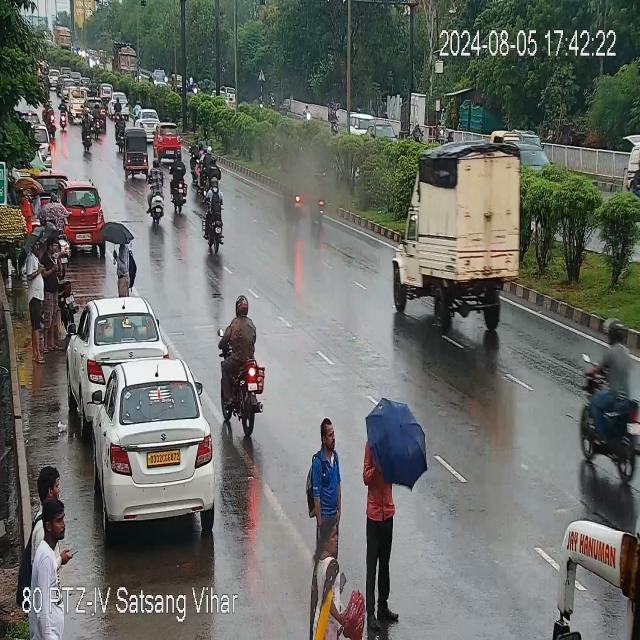2-wheelers: (575, 316, 640, 474), (214, 295, 260, 436), (48, 79, 90, 129), (190, 137, 224, 192), (202, 187, 229, 256), (81, 99, 117, 146), (308, 156, 329, 234), (281, 154, 303, 222), (170, 155, 192, 218), (145, 164, 165, 226), (111, 99, 131, 149), (110, 90, 132, 128), (190, 136, 217, 164), (80, 113, 99, 151), (111, 96, 125, 121)
auto: (125, 127, 154, 177)
bus: (547, 461, 639, 638)
car: (94, 361, 218, 526), (70, 294, 160, 404), (49, 172, 105, 241), (491, 131, 549, 159), (624, 126, 640, 206), (156, 124, 184, 156), (132, 105, 162, 126)
pedestrian: (359, 459, 405, 635), (20, 469, 57, 599), (312, 522, 348, 639), (96, 218, 142, 302), (312, 422, 338, 563), (30, 500, 67, 578), (27, 228, 43, 368), (42, 230, 58, 354), (24, 183, 44, 228), (16, 188, 29, 212)
truck: (388, 134, 524, 328), (112, 40, 138, 76)
